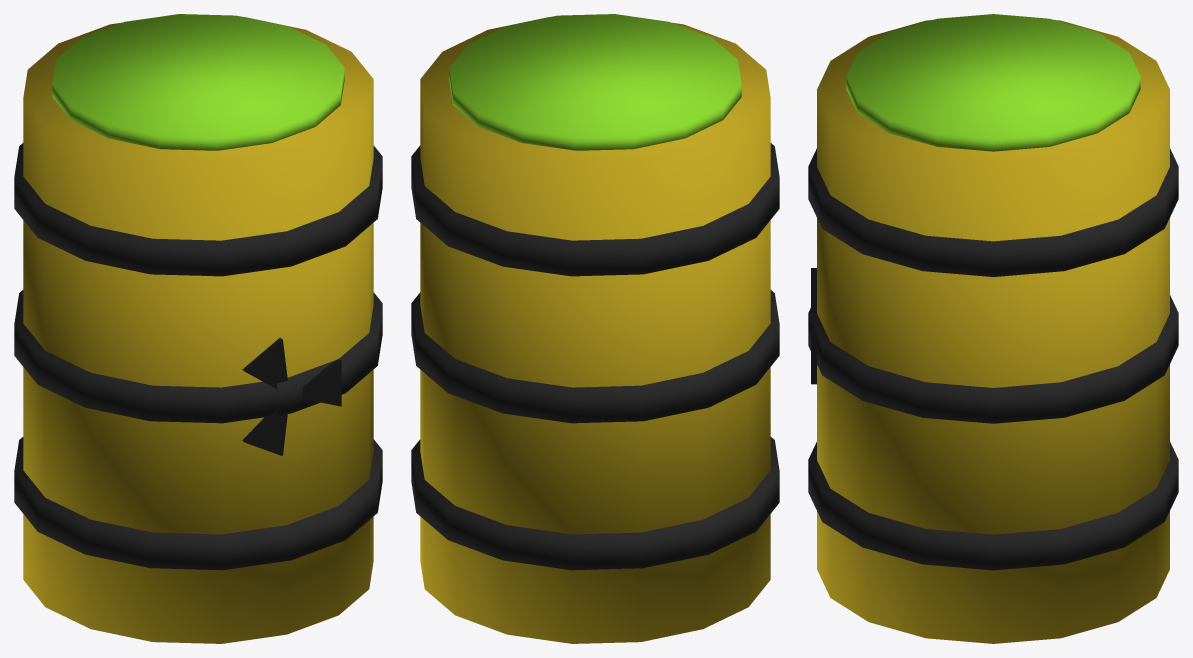
File: barrel.glb
3 renders of one model, left to right at view 1: azimuth 30°, elevation 25°; view 2: azimuth 150°, elevation 25°; view 3: azimuth 270°, elevation 25°, orthographic.
Parts seen in each view (by area): view 1: Barrel, Glow; view 2: Barrel, Glow; view 3: Barrel, Glow.
Boxes of the visible parts, x1=… form: Barrel: x1=14, y1=17, x2=382, y2=643; Glow: x1=52, y1=14, x2=344, y2=150; Barrel: x1=411, y1=17, x2=779, y2=643; Glow: x1=449, y1=14, x2=741, y2=150; Barrel: x1=808, y1=20, x2=1178, y2=643; Glow: x1=846, y1=14, x2=1140, y2=151.
Size of the model in its own units: 1.26 by 1.85 by 1.26.
